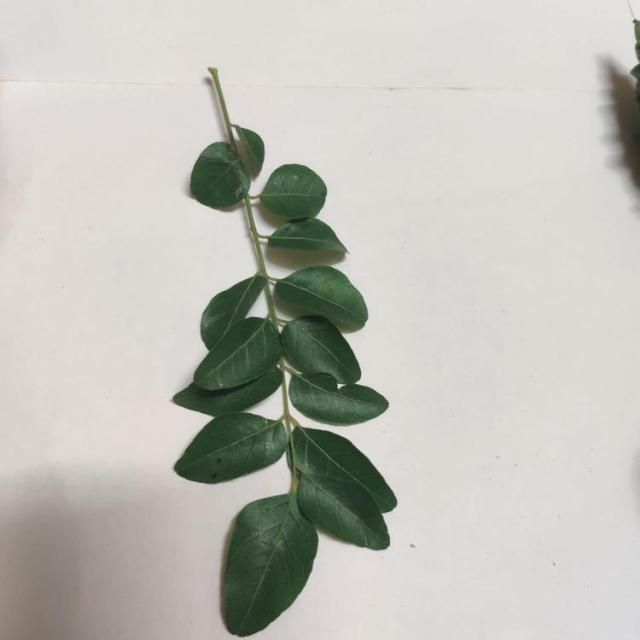Organik: (176, 130, 396, 634)
